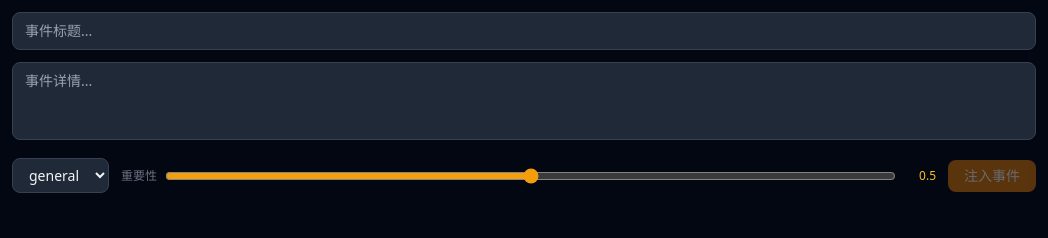
it: EventInjectForm › 提交失败时非 Error 对象应显示默认错误消息
The width and height of the screenshot is (1048, 238).
Type "测试" into the field with placeholder "事件标题..." at (524, 31), box x1=12 y1=12 x2=1036 y2=50
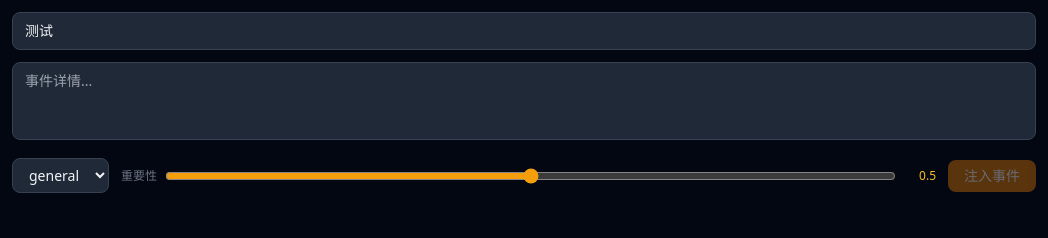
Type "内容" into the text box with placeholder "事件详情..." at (524, 101), box x1=12 y1=62 x2=1036 y2=140
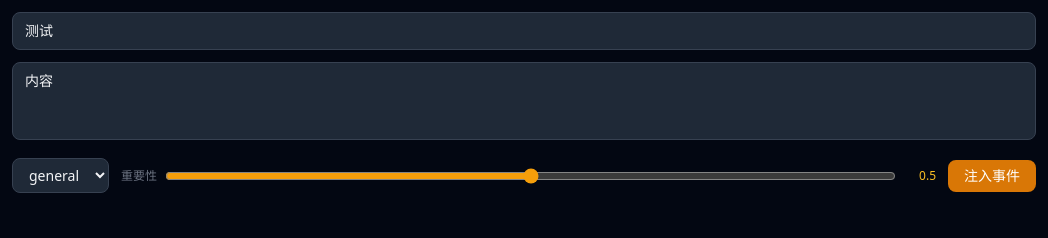
Click the button "注入事件" at (992, 176), box x1=948 y1=160 x2=1036 y2=192
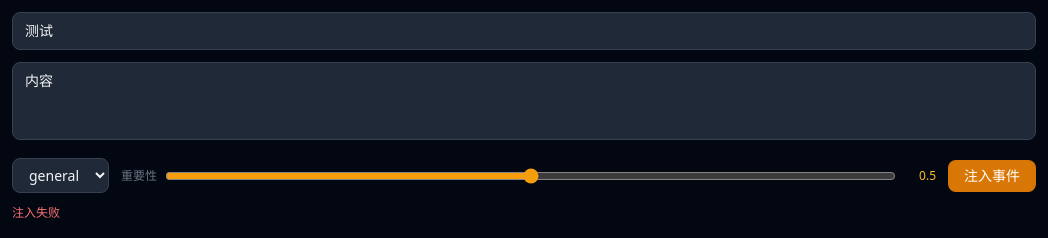
Check: the text "注入失败" is shown, box x1=12 y1=204 x2=60 y2=221
